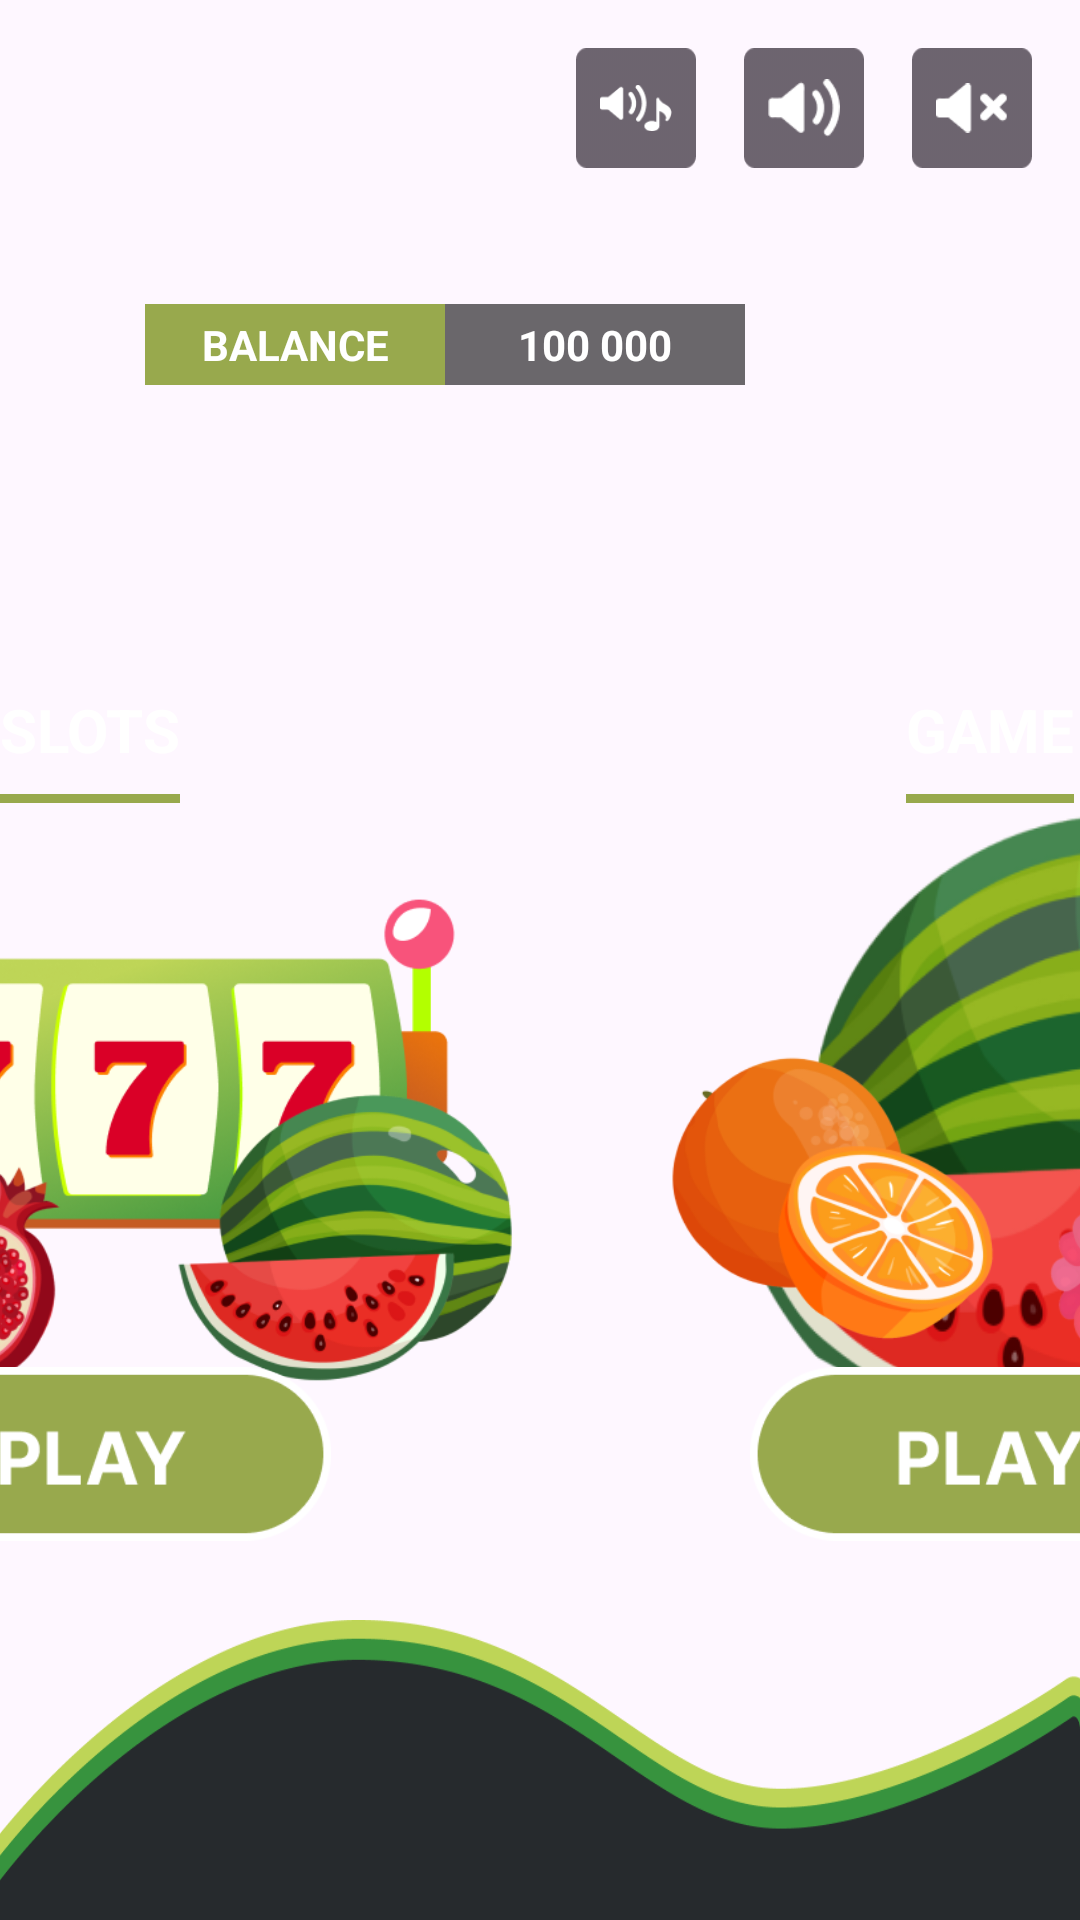

Icon bounding boxes for this 1080*1920 phone screenshot, format (x1, y1, x2, y2):
off: (912, 48, 1032, 168)
